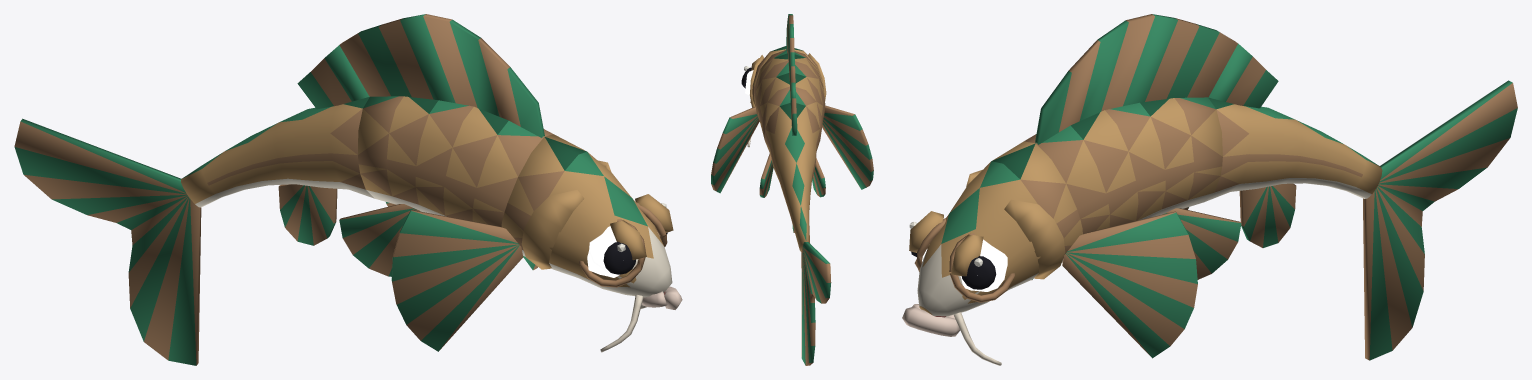
The model's file is carp-weir-leaper.glb.
The picture shows the model from 3 angles, left to right: view 1: azimuth 30°, elevation 25°; view 2: azimuth 150°, elevation 25°; view 3: azimuth 270°, elevation 25°; orthographic projection. The views are drawn at different scales.
Visible parts, largest first — view 1: wag_body_0, wag_body_2, wag_body_1, carp_head, glide_fin_r, pulse_gill_r, blink_eye_r; view 2: wag_body_1, wag_body_0, wag_body_2, glide_fin_r, glide_fin_l, carp_head, blink_eye_l, pulse_gill_l, pulse_gill_r; view 3: wag_body_0, wag_body_2, carp_head, wag_body_1, glide_fin_l, pulse_gill_l, blink_eye_l.
Part boxes in pixels (x1,y1,x2,y2): wag_body_0: (339, 14, 553, 276); wag_body_2: (14, 118, 201, 365); wag_body_1: (181, 45, 374, 245); carp_head: (501, 134, 682, 309); glide_fin_r: (391, 210, 523, 351); pulse_gill_r: (521, 190, 584, 269); blink_eye_r: (587, 226, 635, 277); wag_body_1: (764, 82, 820, 251); wag_body_0: (754, 14, 825, 197); wag_body_2: (801, 242, 831, 365); glide_fin_r: (822, 105, 873, 189); glide_fin_l: (711, 106, 759, 193); carp_head: (750, 46, 822, 105); blink_eye_l: (741, 66, 753, 95); pulse_gill_l: (750, 55, 764, 107); pulse_gill_r: (808, 53, 826, 100); wag_body_0: (1024, 14, 1241, 279); wag_body_2: (1363, 80, 1517, 360); carp_head: (902, 141, 1082, 336); wag_body_1: (1205, 43, 1382, 247); glide_fin_l: (1062, 211, 1197, 358); pulse_gill_l: (1004, 199, 1065, 279); blink_eye_l: (960, 239, 1007, 291).
Bounding box in the file's own units: 0.4449 × 0.4308 × 0.5917.
